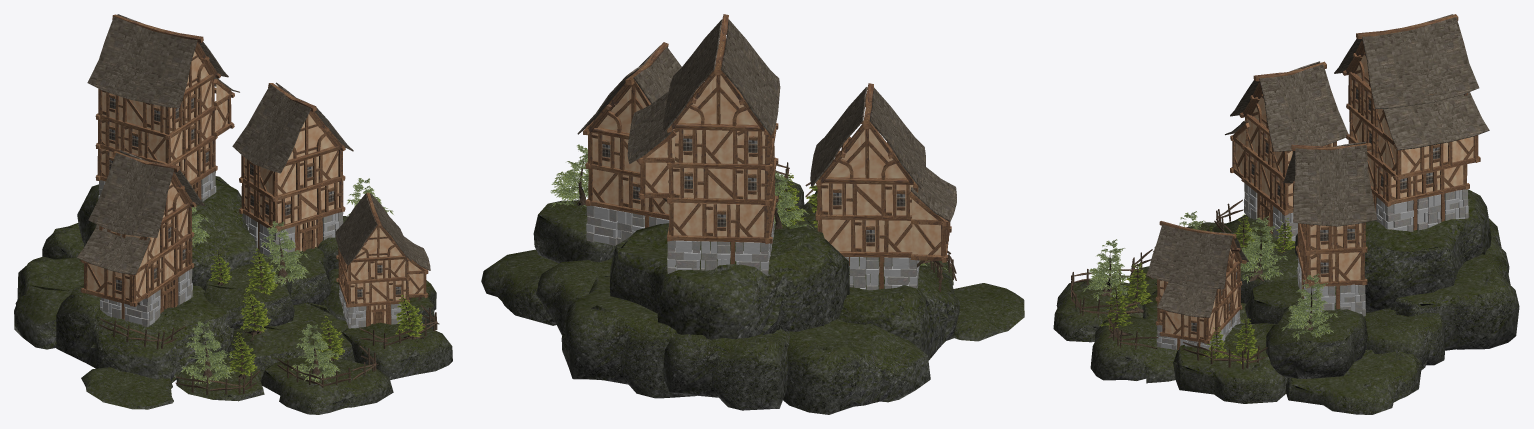
File: vila.glb
3 renders of one model, left to right at view 1: azimuth 30°, elevation 25°; view 2: azimuth 150°, elevation 25°; view 3: azimuth 270°, elevation 25°, orthographic. The views are drawn at different scales.
Parts seen in each view (by area): view 1: vila; view 2: vila; view 3: vila.
Boxes of the visible parts, x1,y1,x2,y2 form: vila: (14,14,452,414); vila: (481,14,1024,414); vila: (1053,14,1519,414).
Size of the model in its own units: 40.69 by 27.75 by 41.85.
16 materials, 16 textured.
